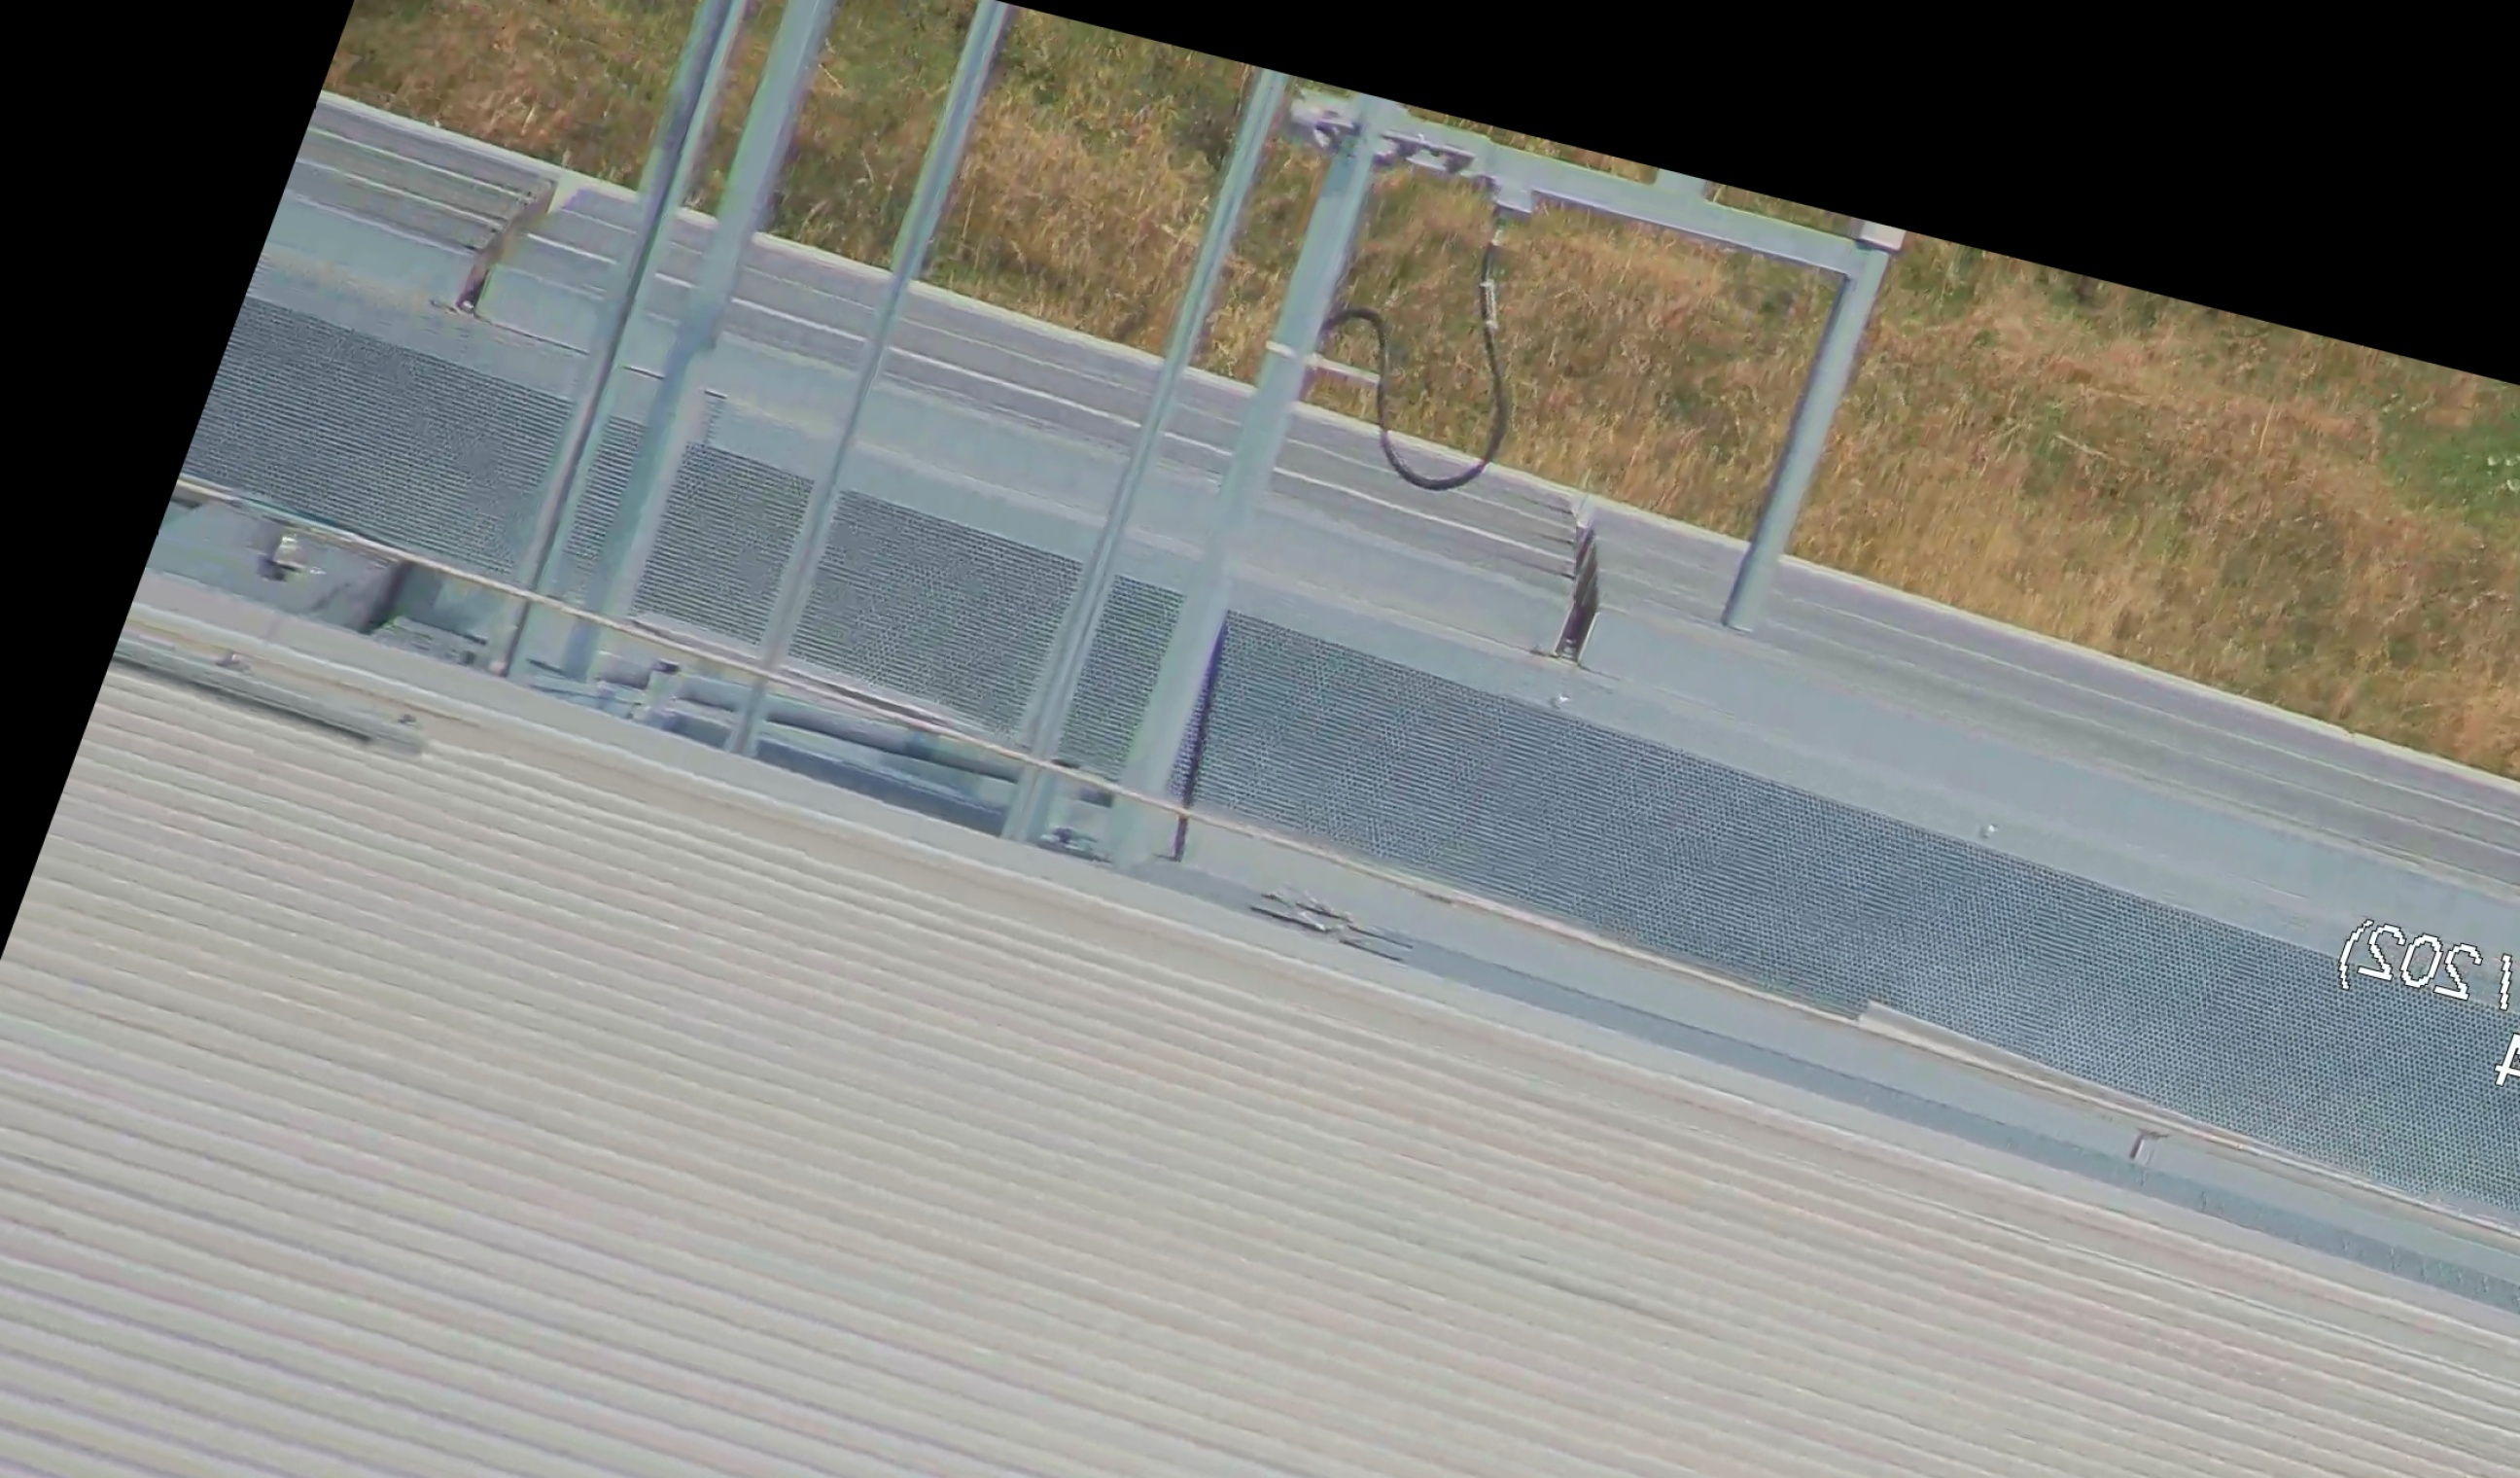Other: (1500, 487, 1646, 662)
